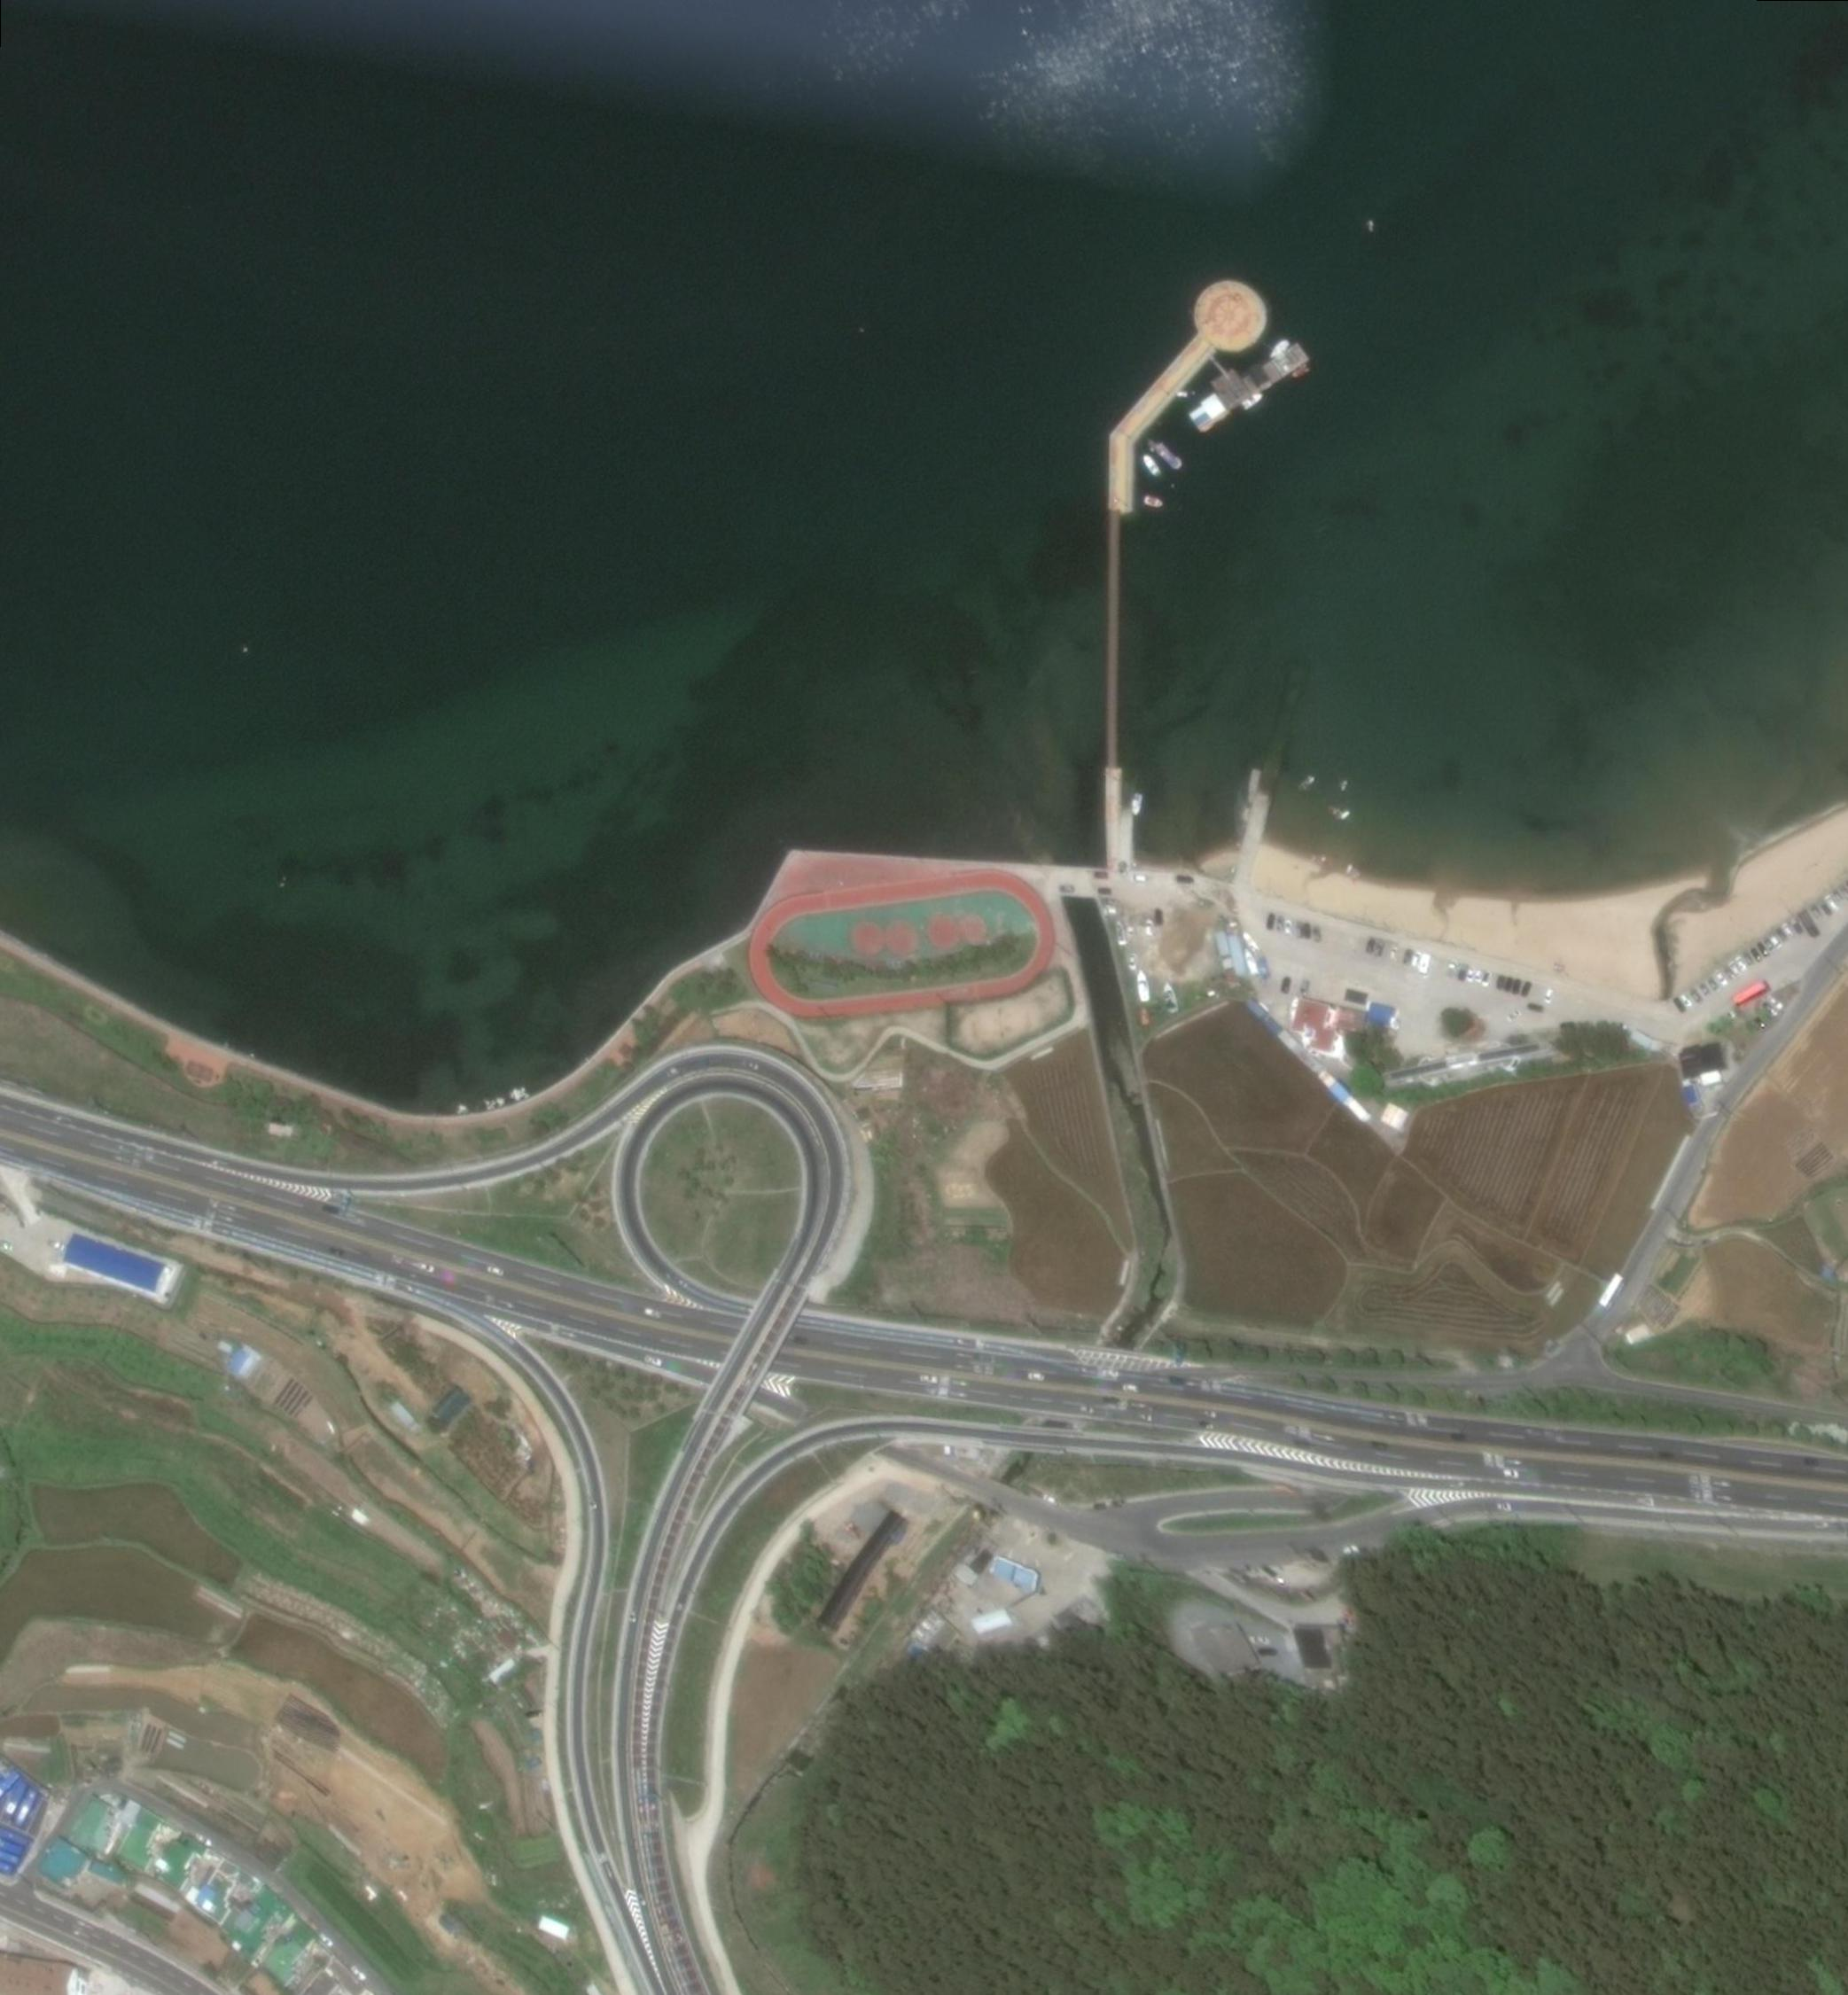harbor: (1060, 248, 1323, 538), (1104, 537, 1122, 818)
